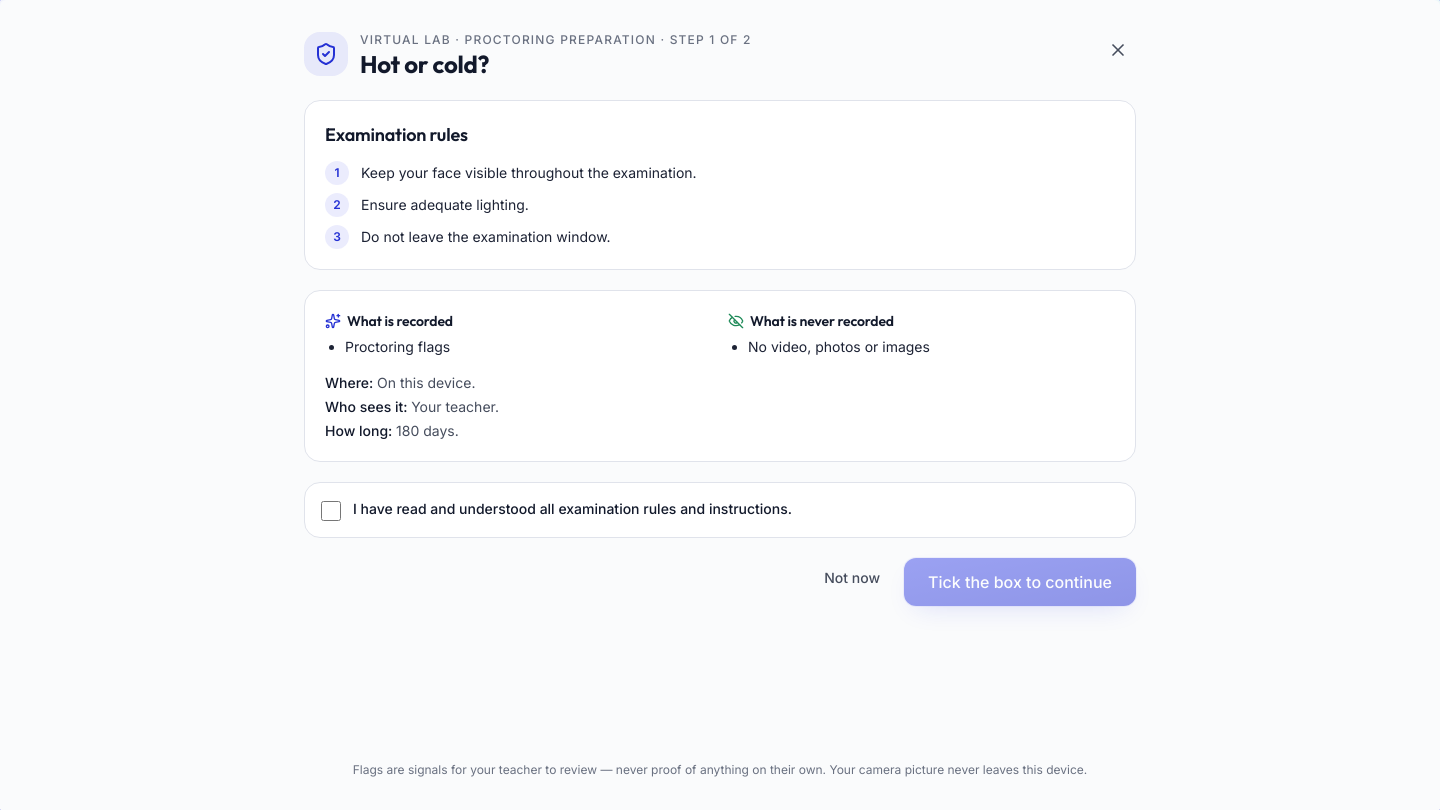
Test: PreExamWindow › shows every rule and the privacy notice, and continues only once the acknowledgement is ticked
Expected: the text "Keep your face visible throughout the examination." is shown, [361, 161, 697, 185]
Expected: the list item "No video, photos or images" is shown, [748, 338, 930, 355]
Click the checkbox labelled "I have read and understood all examination rules and instructions.": (331, 511) [321, 501, 341, 521]
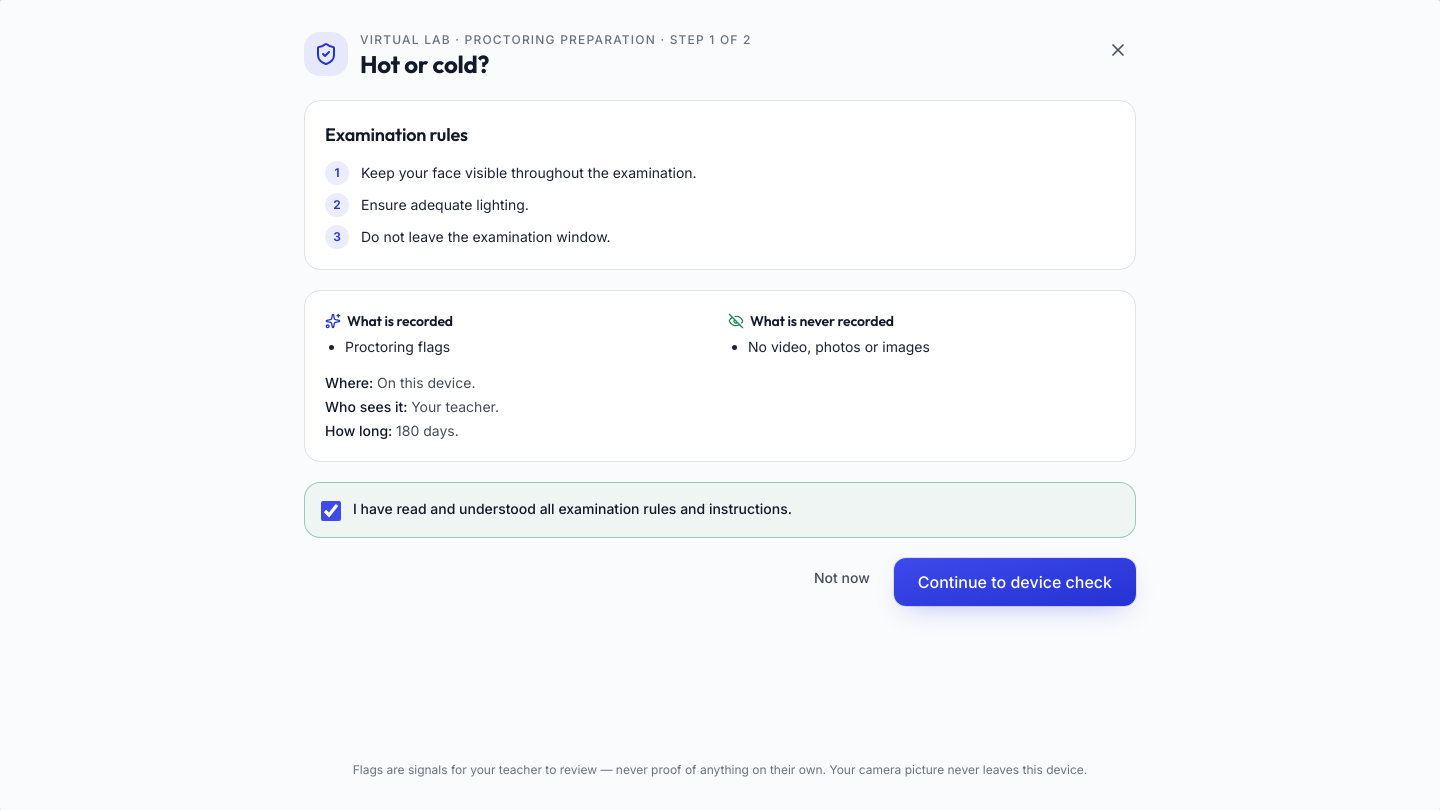
Result: the button "Continue to device check" is enabled at [894, 558, 1136, 606]
